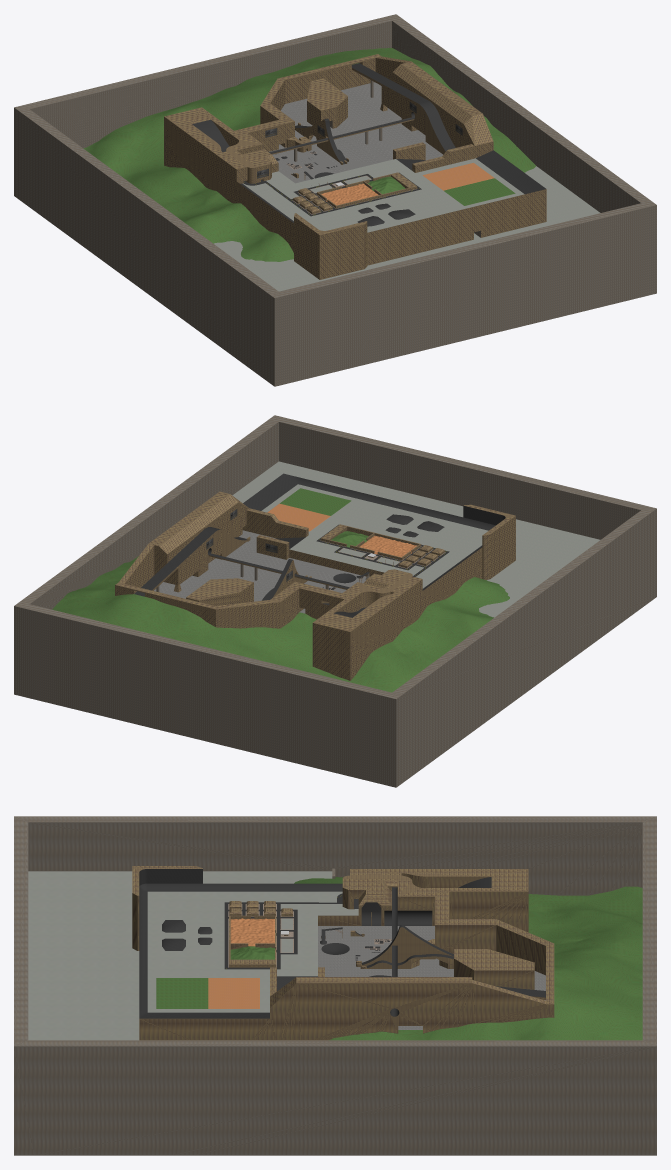
File: Scenario.fbx
The picture shows the model from 3 angles, top to bottom: view 1: azimuth 30°, elevation 25°; view 2: azimuth 150°, elevation 25°; view 3: azimuth 270°, elevation 25°; orthographic projection. The views are drawn at different scales.
Visible parts, largest first — view 1: Scenario, Ground1, Ground2; view 2: Scenario, Ground1, Ground2; view 3: Scenario, Ground1, Ground2.
Part boxes in pixels (x1,y1,x2,y2): Scenario: [14, 14, 656, 386]; Ground1: [83, 48, 535, 261]; Ground2: [321, 163, 494, 205]; Scenario: [14, 415, 656, 787]; Ground1: [52, 488, 509, 692]; Ground2: [267, 503, 416, 557]; Scenario: [14, 816, 656, 1155]; Ground1: [156, 877, 642, 1040]; Ground2: [208, 918, 274, 1008].
Bounding box in the file's own units: 191982 × 53082 × 226770.
